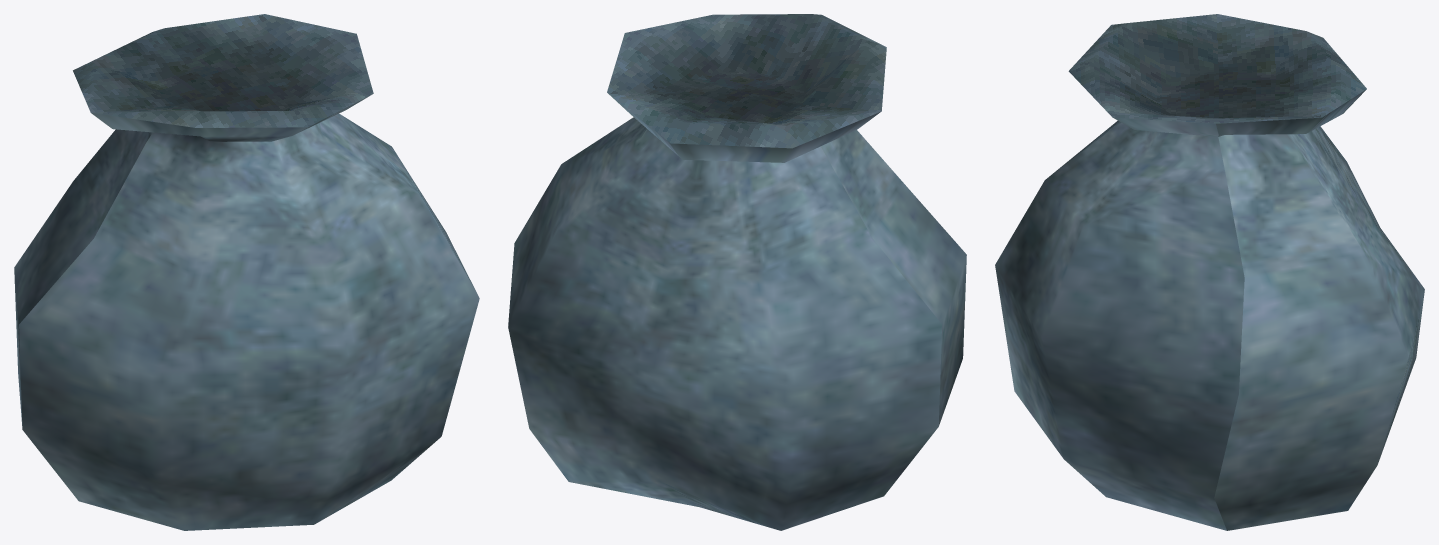
Rendered from ct_sac_s.glb.
The picture shows the model from 3 angles, left to right: view 1: azimuth 30°, elevation 25°; view 2: azimuth 150°, elevation 25°; view 3: azimuth 270°, elevation 25°; orthographic projection. The views are drawn at different scales.
Visible parts, largest first — view 1: ct_sac_s-col; view 2: ct_sac_s-col; view 3: ct_sac_s-col.
Boxes of the visible parts, x1,y1,x2,y2 form: ct_sac_s-col: (14, 14, 479, 530); ct_sac_s-col: (508, 14, 966, 530); ct_sac_s-col: (995, 14, 1424, 530).
Size of the model in its own units: 0.2078 by 0.1982 by 0.1857.
2 materials, 2 textured.
